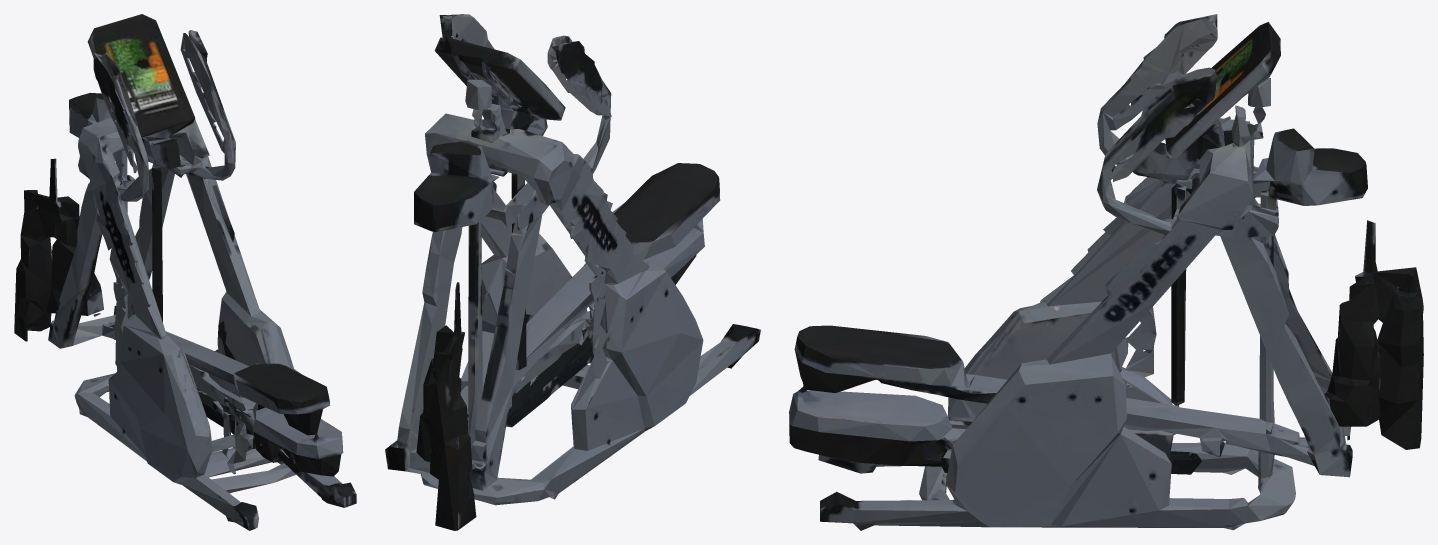
Rendered from k1-nordictrack-x16-phone.glb.
3 views of the same model, side by side, from view 1: azimuth 30°, elevation 25°; view 2: azimuth 150°, elevation 25°; view 3: azimuth 270°, elevation 25° (orthographic). The views are drawn at different scales.
Parts seen in each view (by area): view 1: demo_textured.obj; view 2: demo_textured.obj; view 3: demo_textured.obj.
Boxes of the visible parts, bbox=[...] form: demo_textured.obj: bbox=[14, 14, 356, 530]; demo_textured.obj: bbox=[385, 14, 760, 530]; demo_textured.obj: bbox=[789, 14, 1423, 530].
Size of the model in its own units: 0.5498 by 1.57 by 1.96.
Materials: 1 (1 with a texture image).
